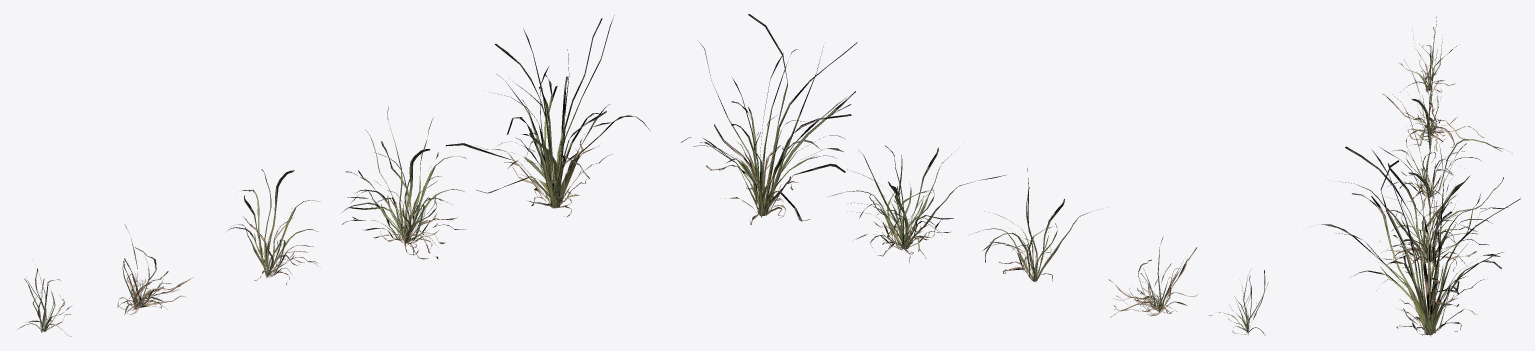
Rendered from grass2.glb.
3 renders of one model, left to right at view 1: azimuth 30°, elevation 25°; view 2: azimuth 150°, elevation 25°; view 3: azimuth 270°, elevation 25°, orthographic. The views are drawn at different scales.
Visible parts, largest first — view 1: grass_medium_02_e, grass_medium_02_d, grass_medium_02_c, grass_medium_02_b, grass_medium_02_a; view 2: grass_medium_02_e, grass_medium_02_d, grass_medium_02_c, grass_medium_02_b, grass_medium_02_a; view 3: grass_medium_02_e, grass_medium_02_d, grass_medium_02_c, grass_medium_02_b, grass_medium_02_a.
Boxes of the visible parts, box(x1,y1,x2,y2) form: grass_medium_02_e: box(446, 15, 649, 217); grass_medium_02_d: box(342, 106, 466, 259); grass_medium_02_c: box(228, 169, 319, 284); grass_medium_02_b: box(117, 225, 192, 314); grass_medium_02_a: box(18, 268, 71, 336); grass_medium_02_e: box(681, 14, 857, 224); grass_medium_02_d: box(828, 145, 1005, 262); grass_medium_02_c: box(975, 168, 1091, 281); grass_medium_02_b: box(1108, 237, 1197, 317); grass_medium_02_a: box(1209, 270, 1268, 335); grass_medium_02_e: box(1310, 144, 1520, 335); grass_medium_02_d: box(1334, 143, 1508, 274); grass_medium_02_c: box(1387, 94, 1512, 215); grass_medium_02_b: box(1382, 49, 1483, 151); grass_medium_02_a: box(1399, 17, 1456, 92).
Size of the model in its own units: 1.31 by 0.4053 by 0.4326.
Materials: 1 (1 with a texture image).
